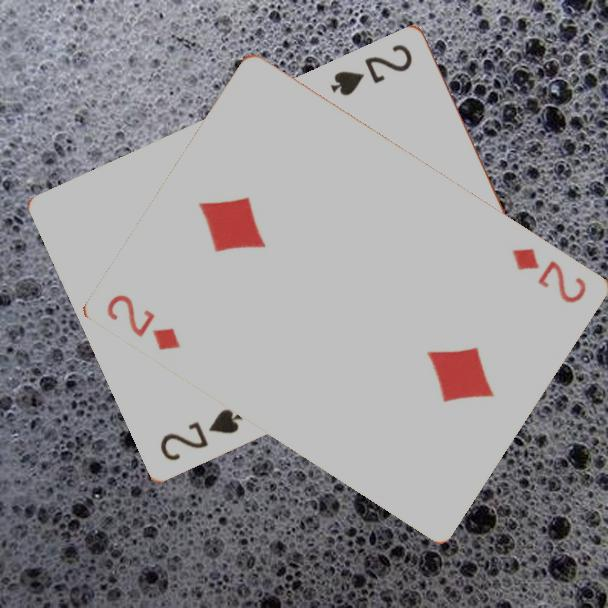d02: (102, 291, 183, 354), (508, 244, 589, 307)
s02: (326, 40, 416, 99), (156, 404, 246, 463)
